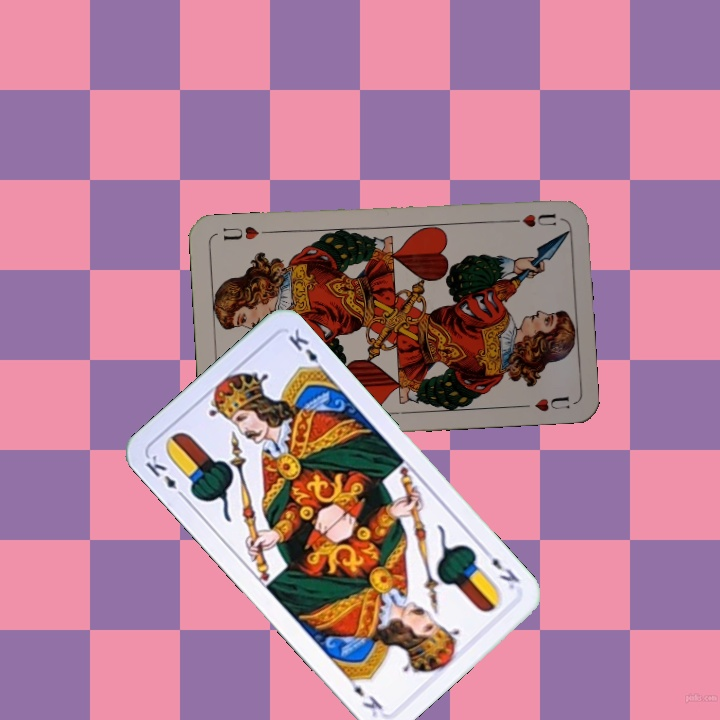EK: (141, 451, 189, 502), (477, 543, 523, 593)
HU: (503, 209, 559, 230)
